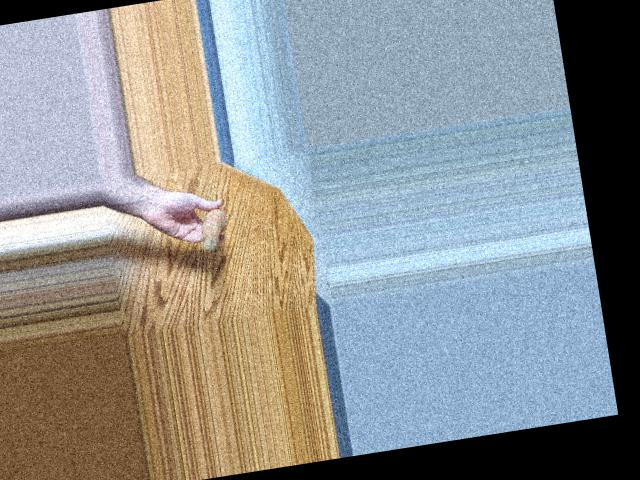sweet_potato: (193, 205, 226, 251)
